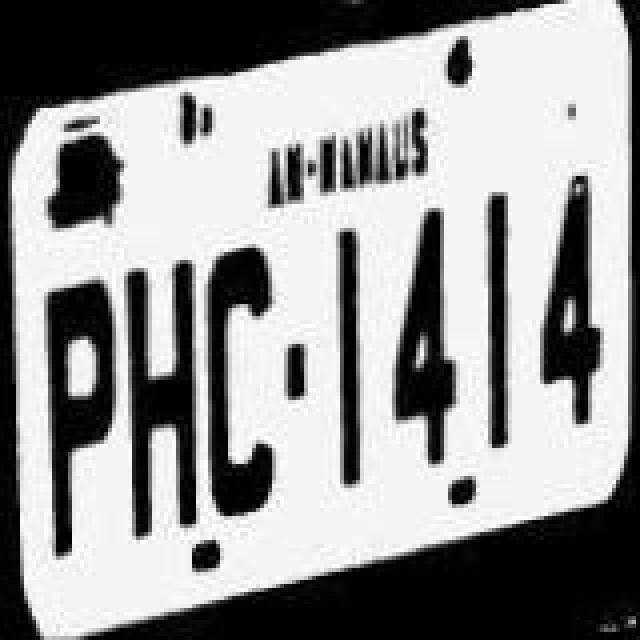1: (318, 214, 374, 490), (480, 170, 524, 466)
4: (536, 174, 612, 470), (394, 196, 466, 480)
C: (206, 224, 286, 524)
H: (128, 236, 204, 544)
P: (44, 270, 120, 578)
